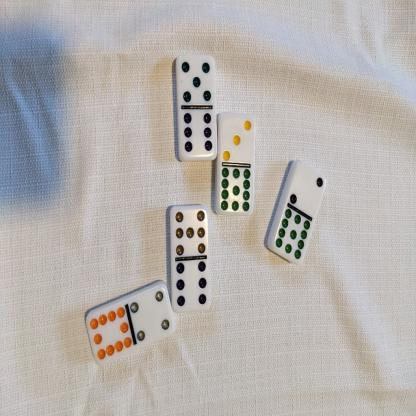pip-11: (84, 303, 131, 364), (273, 206, 310, 264), (216, 163, 254, 213)
pip-2: (288, 159, 326, 213)
pip-3: (218, 112, 254, 164)
pip-4: (129, 282, 173, 340)
pip-5: (175, 53, 216, 106)
pip-6: (177, 104, 217, 161), (171, 257, 209, 312)
pip-7: (168, 206, 209, 258)
